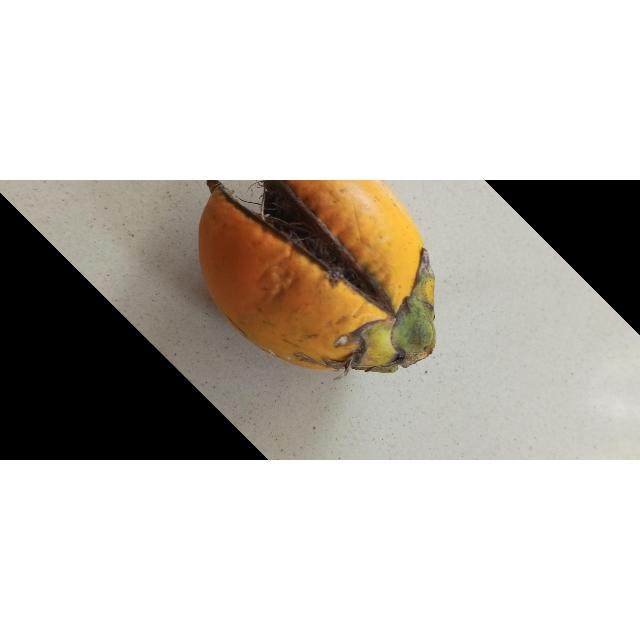damaged: (197, 180, 438, 374)
